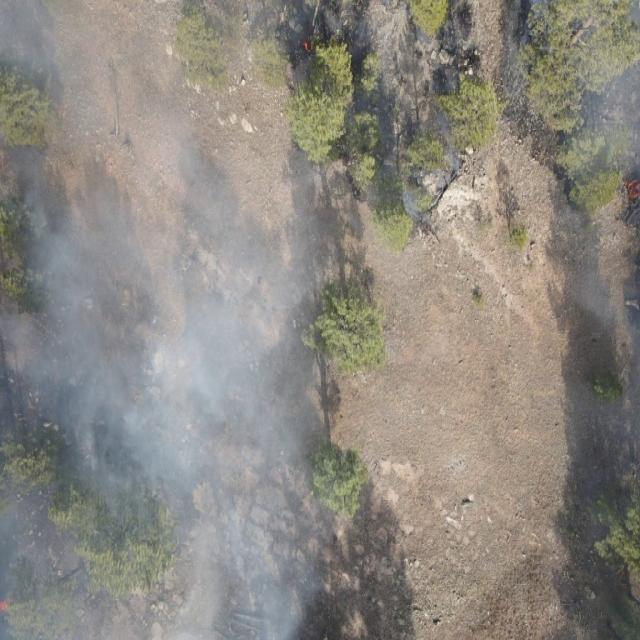fire: (624, 178, 640, 202), (300, 39, 316, 55), (0, 598, 11, 614)
smoke: (0, 0, 368, 640), (513, 0, 640, 158), (384, 14, 472, 218), (561, 157, 640, 332), (610, 332, 640, 458)
